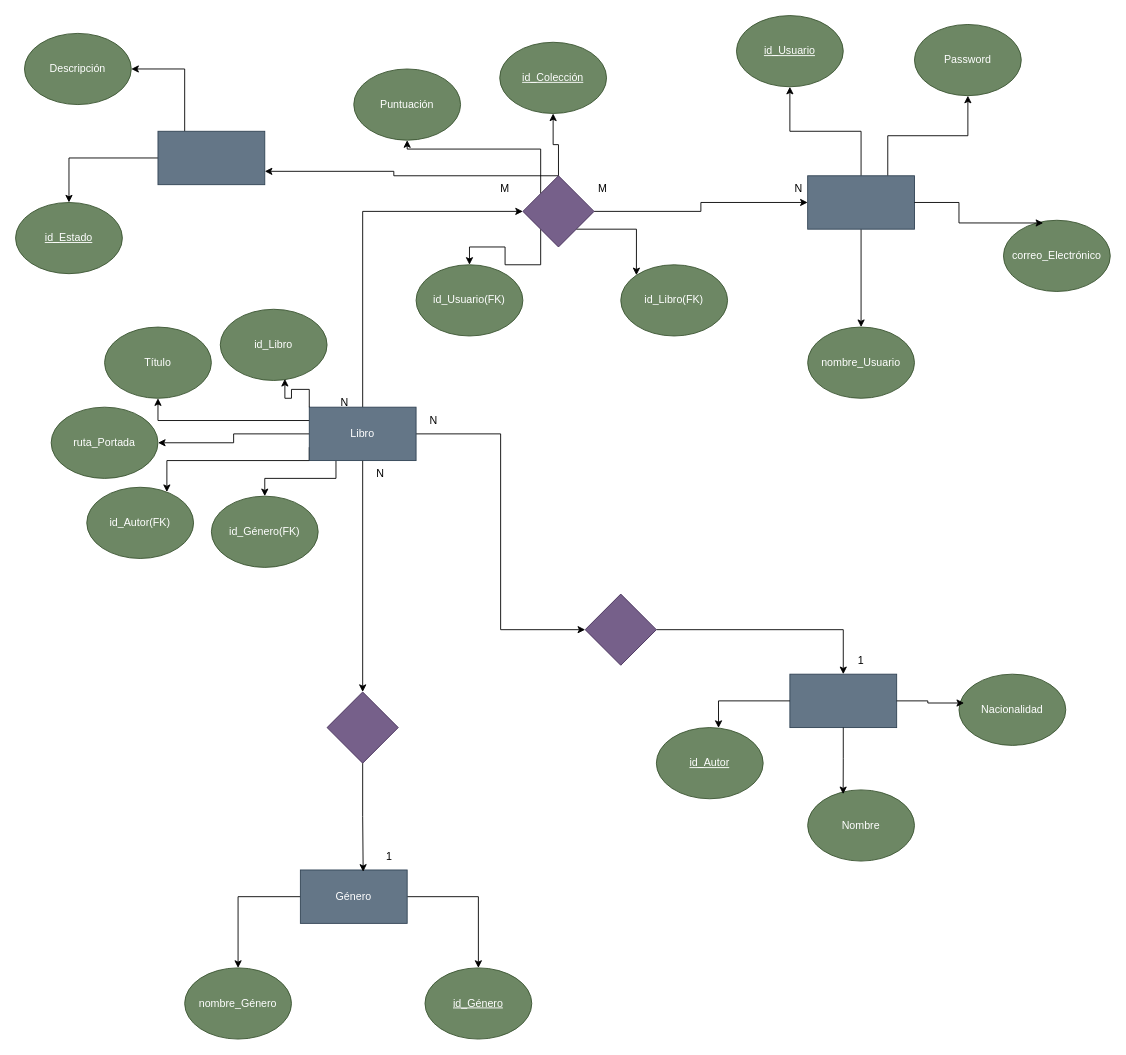
This 1126x1055 diagram has some shape labels left out. Here are the shapes that lost their labels. From the top down, the centre of each, then its label:
(211,157): Estado
(558,211): Colección
(860,202): Usuario
(620,629): Escribe
(843,700): Autor
(362,727): Pertenece
